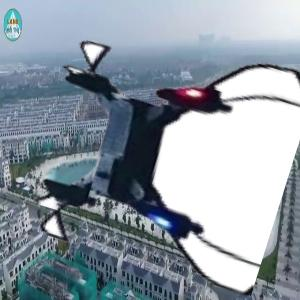drone: (36, 31, 290, 285)
